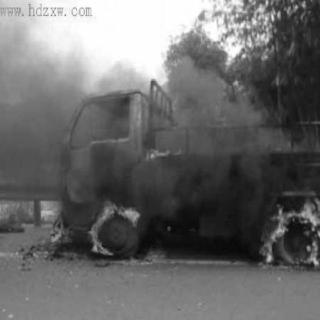Fire: (256, 193, 318, 270), (81, 194, 141, 262)
Smoke: (1, 13, 64, 191), (168, 64, 274, 146)
